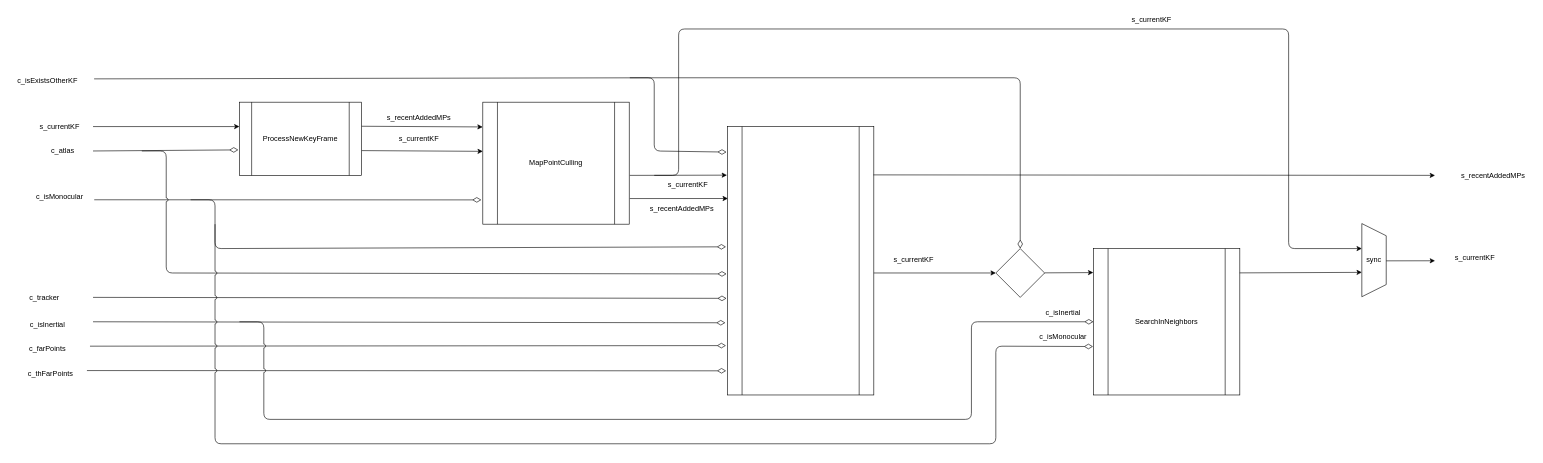
Some shapes in this 1543 by 463 pixel diagram are drawn without their labels. Here are the shapes that lost their labels. From the top down, the centre of each, then its label:
point (800, 260): CreateNewMapPoints
point (1020, 272): ==false
